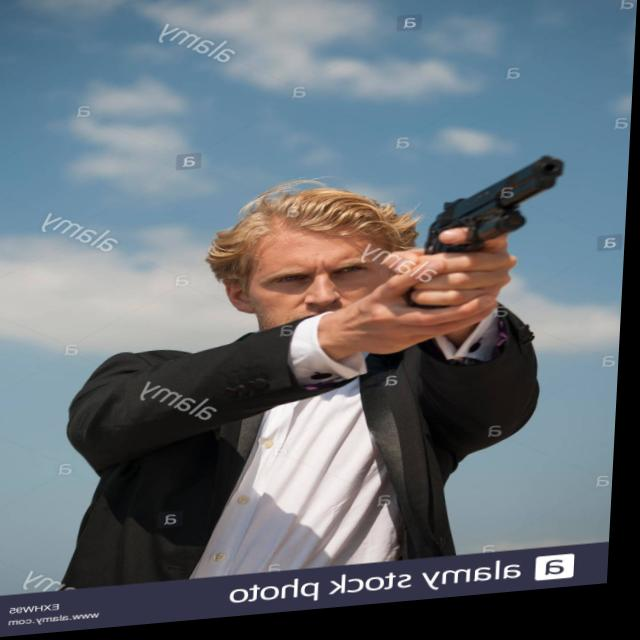handgun: (402, 159, 575, 322)
